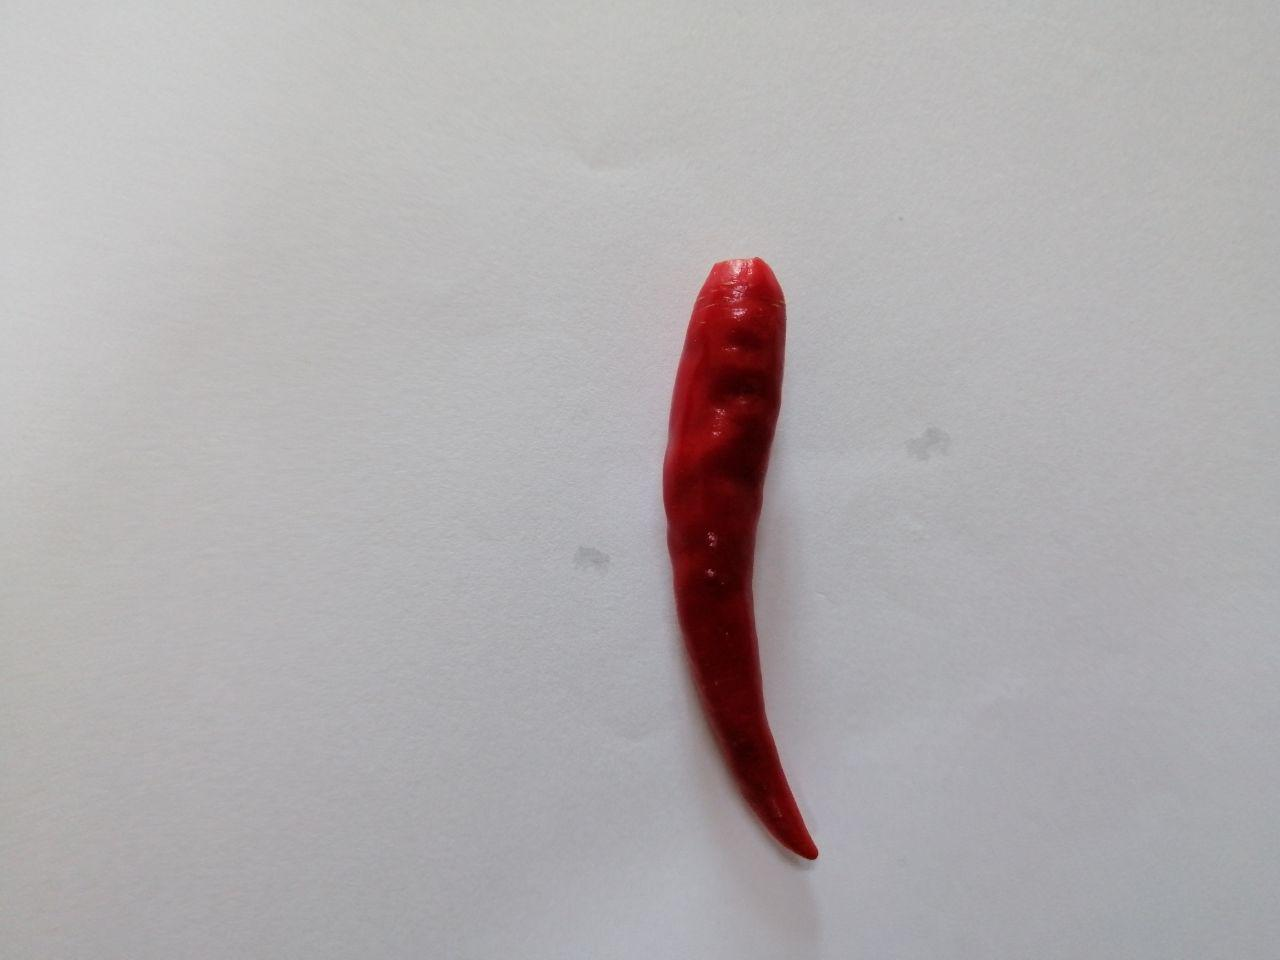lada merah: (640, 230, 841, 887)
